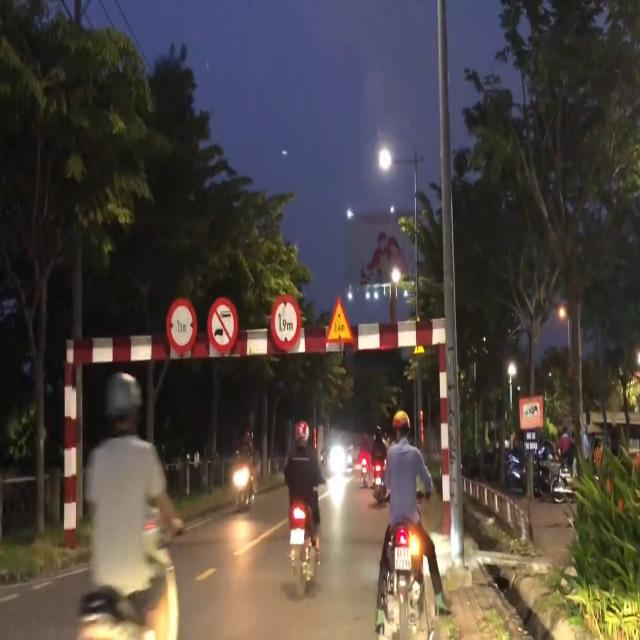Bien bao cam xe oto khach va xe oto tai: (205, 292, 240, 359)
Bien bao chieu cao tinh khong thuc te: (322, 296, 360, 352)
Bien bao han che chieu cao: (270, 290, 302, 356)
